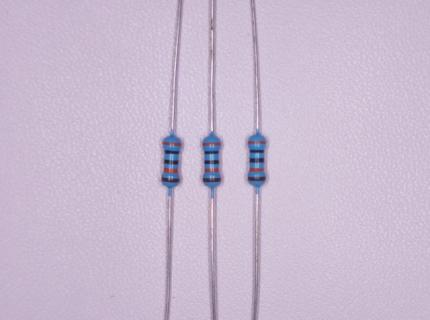Black band: (164, 159, 178, 165), (250, 149, 264, 154), (204, 160, 219, 164), (165, 150, 179, 154), (250, 158, 264, 162), (204, 151, 219, 154)
Brown band: (161, 177, 180, 183), (248, 176, 266, 181), (203, 178, 221, 182)
Orange band: (163, 141, 181, 146), (163, 168, 179, 173), (202, 142, 221, 146), (205, 168, 219, 173), (249, 168, 264, 172), (248, 141, 266, 144)
